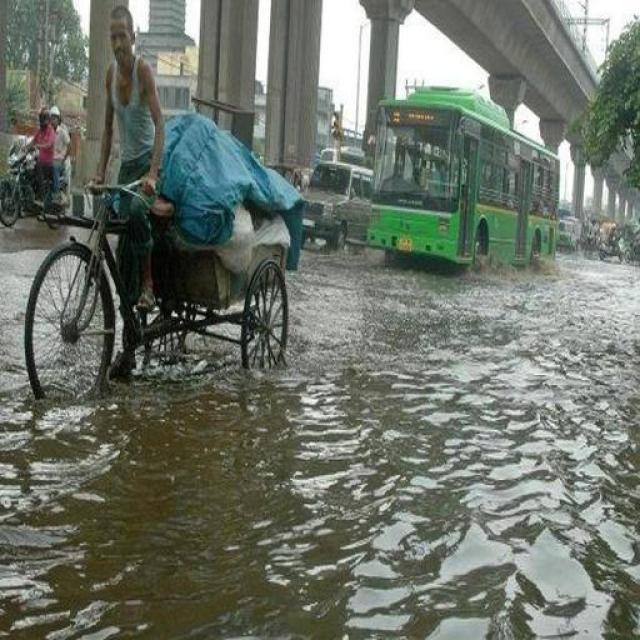puddle: (8, 404, 320, 640), (400, 296, 612, 637), (307, 262, 423, 640)
